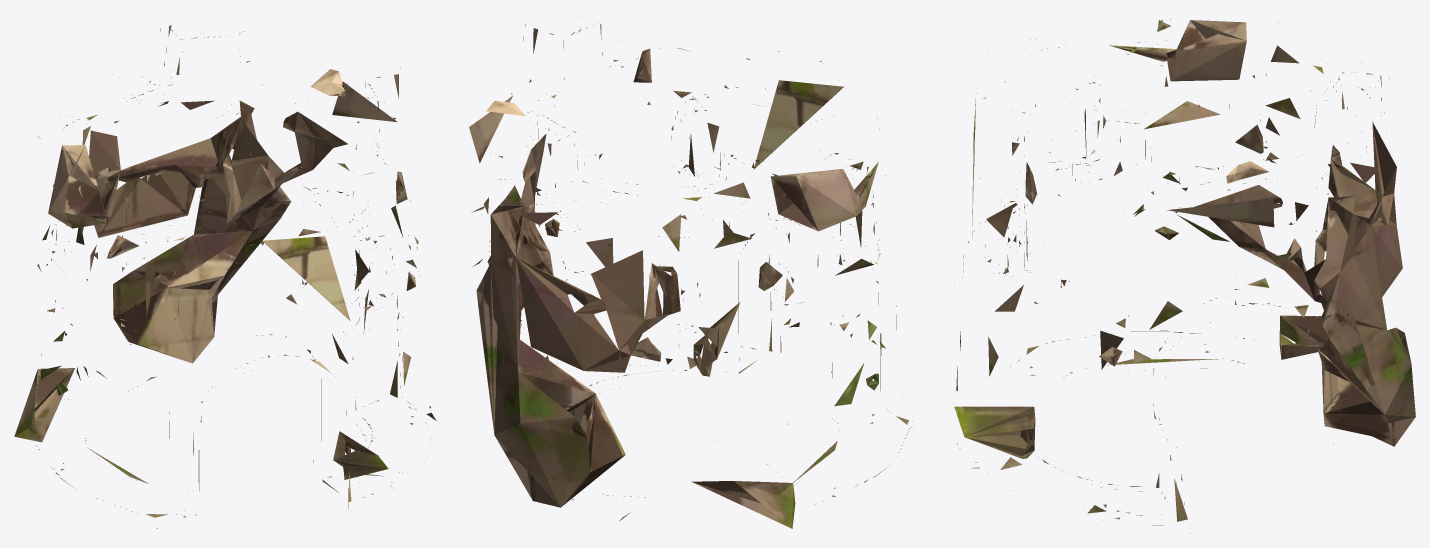
File: ruin-tower.glb
3 views of the same model, side by side, from view 1: azimuth 30°, elevation 25°; view 2: azimuth 150°, elevation 25°; view 3: azimuth 270°, elevation 25° (orthographic). The views are drawn at different scales.
Visible parts, largest first — view 1: ruin-tower; view 2: ruin-tower; view 3: ruin-tower.
Boxes of the visible parts, x1=… form: ruin-tower: x1=14, y1=24, x2=436, y2=528; ruin-tower: x1=469, y1=19, x2=912, y2=528; ruin-tower: x1=954, y1=18, x2=1415, y2=533.
Bounding box in the file's own units: 6.33 × 5.94 × 6.49.
1 material, 1 textured.
